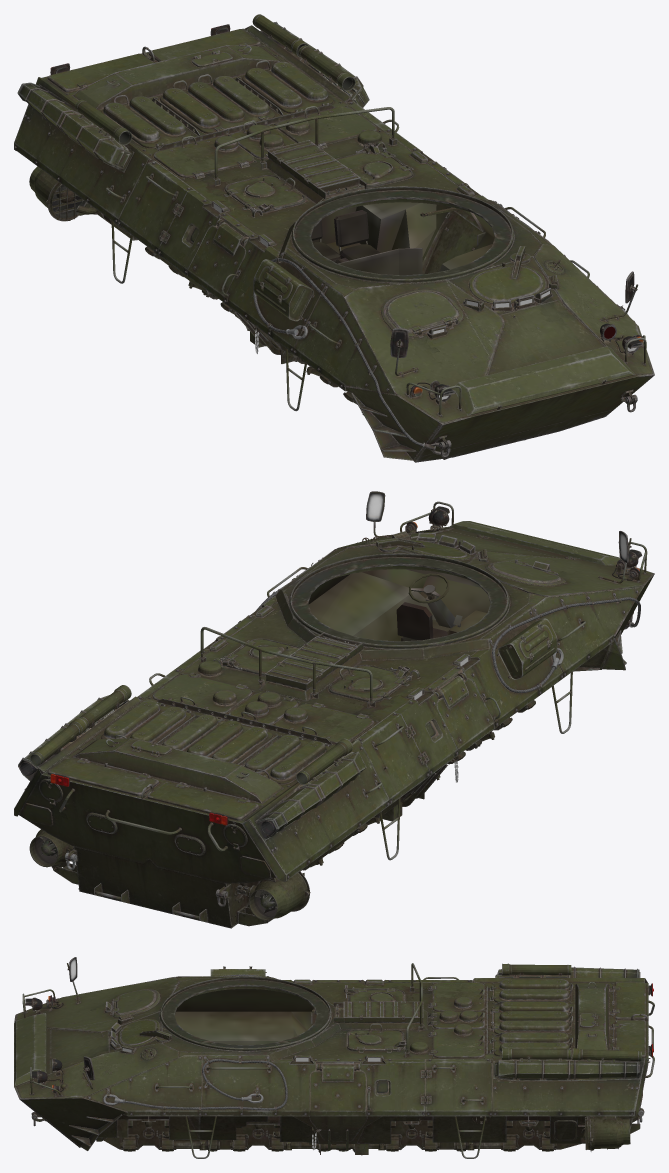
The model's file is hullbtr.obj.
3 renders of one model, top to bottom at view 1: azimuth 30°, elevation 25°; view 2: azimuth 150°, elevation 25°; view 3: azimuth 270°, elevation 25°, orthographic. The views are drawn at different scales.
Parts seen in each view (by area): view 1: vehicle#@root_0, vehicle#breakwater_149, vehicle#hatch_12_38, vehicle#hatch_13_37, vehicle#hatch_06_34, vehicle#hatch_11_28, vehicle#hatch_16_27, vehicle#hatch_14_25, vehicle#ex_decor_02_148, vehicle#ex_decor_03_147, vehicle#hatch_03_33, vehicle#hatch_01_32 (+11 smaller); view 2: vehicle#@root_0, vehicle#hatch_12_38, vehicle#hatch_06_34, vehicle#hatch_16_27, vehicle#hatch_14_25, vehicle#hatch_11_28, vehicle#hatch_13_37, vehicle#ex_decor_02_148, vehicle#ex_decor_03_147, vehicle#hatch_18_36, vehicle#hatch_17_29, vehicle#breakwater_149 (+9 smaller); view 3: vehicle#@root_0, vehicle#hatch_08_41, vehicle#hatch_12_38, vehicle#breakwater_149, vehicle#hatch_11_28, vehicle#hatch_14_25, vehicle#ex_decor_l_04_144, vehicle#hatch_16_27, vehicle#hatch_13_37, vehicle#hatch_07_42, vehicle#ex_decor_03_147, vehicle#hatch_18_36 (+10 smaller).
Part boxes in pixels (left/top/right/bottom): vehicle#@root_0: left=14, top=21, right=654, bottom=462; vehicle#breakwater_149: left=453, top=346, right=635, bottom=415; vehicle#hatch_12_38: left=160, top=74, right=274, bottom=133; vehicle#hatch_13_37: left=242, top=60, right=333, bottom=113; vehicle#hatch_06_34: left=188, top=222, right=245, bottom=302; vehicle#hatch_11_28: left=101, top=95, right=191, bottom=148; vehicle#hatch_16_27: left=153, top=136, right=253, bottom=177; vehicle#hatch_14_25: left=276, top=106, right=376, bottom=146; vehicle#ex_decor_02_148: left=253, top=259, right=314, bottom=321; vehicle#ex_decor_03_147: left=267, top=140, right=360, bottom=188; vehicle#hatch_03_33: left=386, top=291, right=458, bottom=333; vehicle#hatch_01_32: left=473, top=246, right=542, bottom=300; vehicle#@root_0: left=14, top=525, right=654, bottom=928; vehicle#hatch_12_38: left=162, top=714, right=272, bottom=763; vehicle#hatch_06_34: left=437, top=675, right=494, bottom=754; vehicle#hatch_16_27: left=274, top=703, right=373, bottom=743; vehicle#hatch_14_25: left=152, top=672, right=252, bottom=713; vehicle#hatch_11_28: left=244, top=734, right=330, bottom=784; vehicle#hatch_13_37: left=101, top=700, right=191, bottom=743; vehicle#ex_decor_02_148: left=496, top=618, right=557, bottom=679; vehicle#ex_decor_03_147: left=265, top=636, right=357, bottom=684; vehicle#hatch_18_36: left=147, top=782, right=258, bottom=820; vehicle#hatch_17_29: left=48, top=758, right=158, bottom=796; vehicle#breakwater_149: left=448, top=521, right=620, bottom=565; vehicle#@root_0: left=14, top=963, right=654, bottom=1158; vehicle#hatch_08_41: left=310, top=1064, right=366, bottom=1116; vehicle#hatch_12_38: left=491, top=1001, right=572, bottom=1033; vehicle#breakwater_149: left=14, top=1013, right=46, bottom=1085; vehicle#hatch_11_28: left=491, top=979, right=573, bottom=1002; vehicle#hatch_14_25: left=430, top=1024, right=484, bottom=1058; vehicle#ex_decor_l_04_144: left=502, top=1048, right=641, bottom=1062; vehicle#hatch_16_27: left=430, top=982, right=484, bottom=1011; vehicle#hatch_13_37: left=491, top=1032, right=572, bottom=1056; vehicle#hatch_07_42: left=310, top=1116, right=366, bottom=1150; vehicle#ex_decor_03_147: left=343, top=1001, right=423, bottom=1017; vehicle#hatch_18_36: left=612, top=982, right=645, bottom=1019.
Size of the model in its own units: 3.22 by 1.99 by 8.13.
